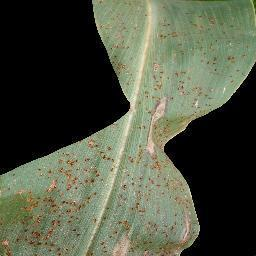Corn_Common_Rust: (0, 143, 215, 256), (87, 0, 256, 143)
